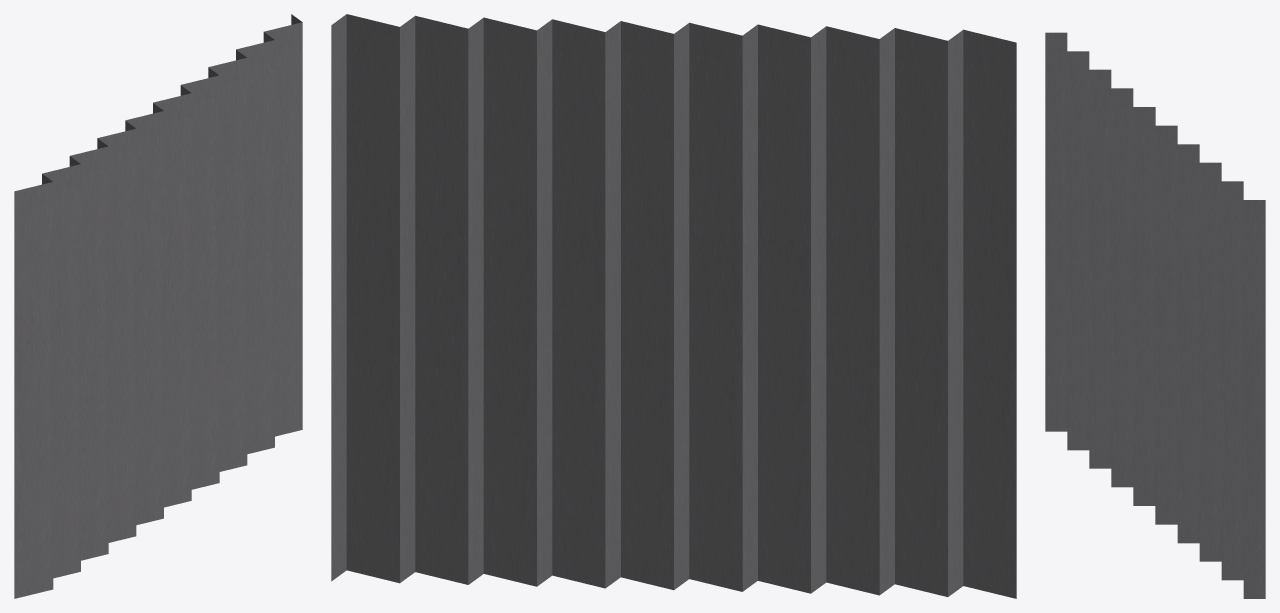
Rendered from escalier_rdc.obj.
3 renders of one model, left to right at view 1: azimuth 30°, elevation 25°; view 2: azimuth 150°, elevation 25°; view 3: azimuth 270°, elevation 25°, orthographic. The views are drawn at different scales.
Size of the model in its own units: 6 by 6 by 3.
Materials: 1 (1 with a texture image).
